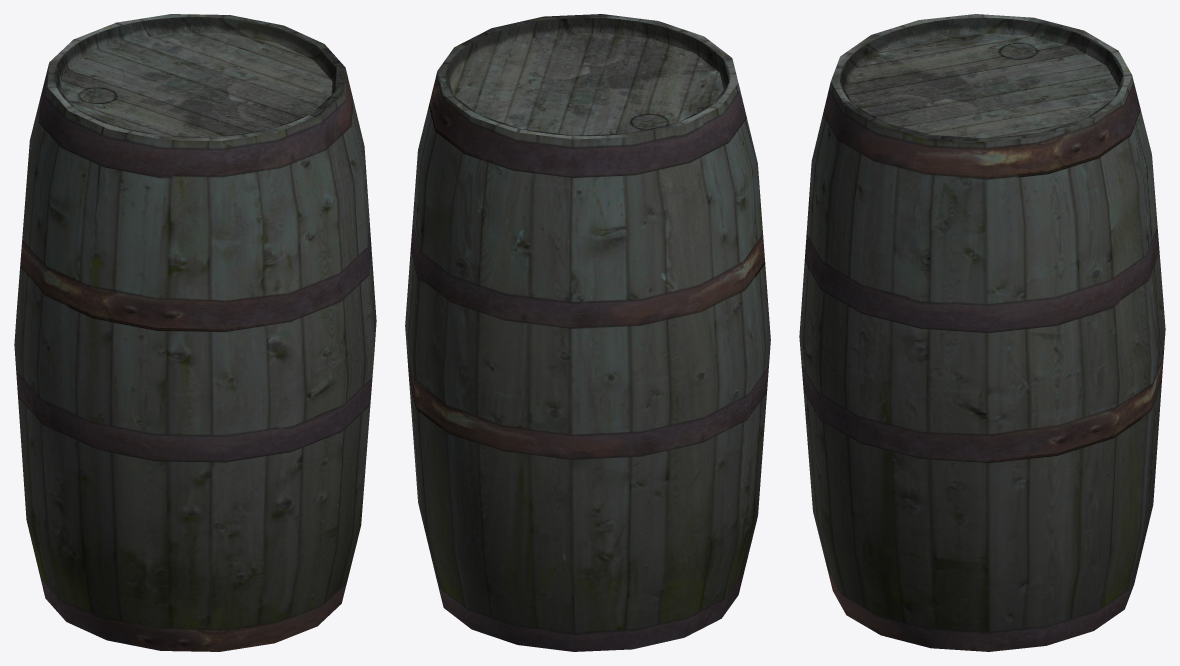
File: Barrel_LOD01.fbx
3 renders of one model, left to right at view 1: azimuth 30°, elevation 25°; view 2: azimuth 150°, elevation 25°; view 3: azimuth 270°, elevation 25°, orthographic.
Visible parts, largest first — view 1: Mesh Object; view 2: Mesh Object; view 3: Mesh Object.
Part boxes in pixels (x1,y1,x2,y2): Mesh Object: [14, 14, 376, 651]; Mesh Object: [405, 14, 770, 651]; Mesh Object: [799, 14, 1165, 651].
Size of the model in its own units: 0.7084 by 1.09 by 0.7084.
